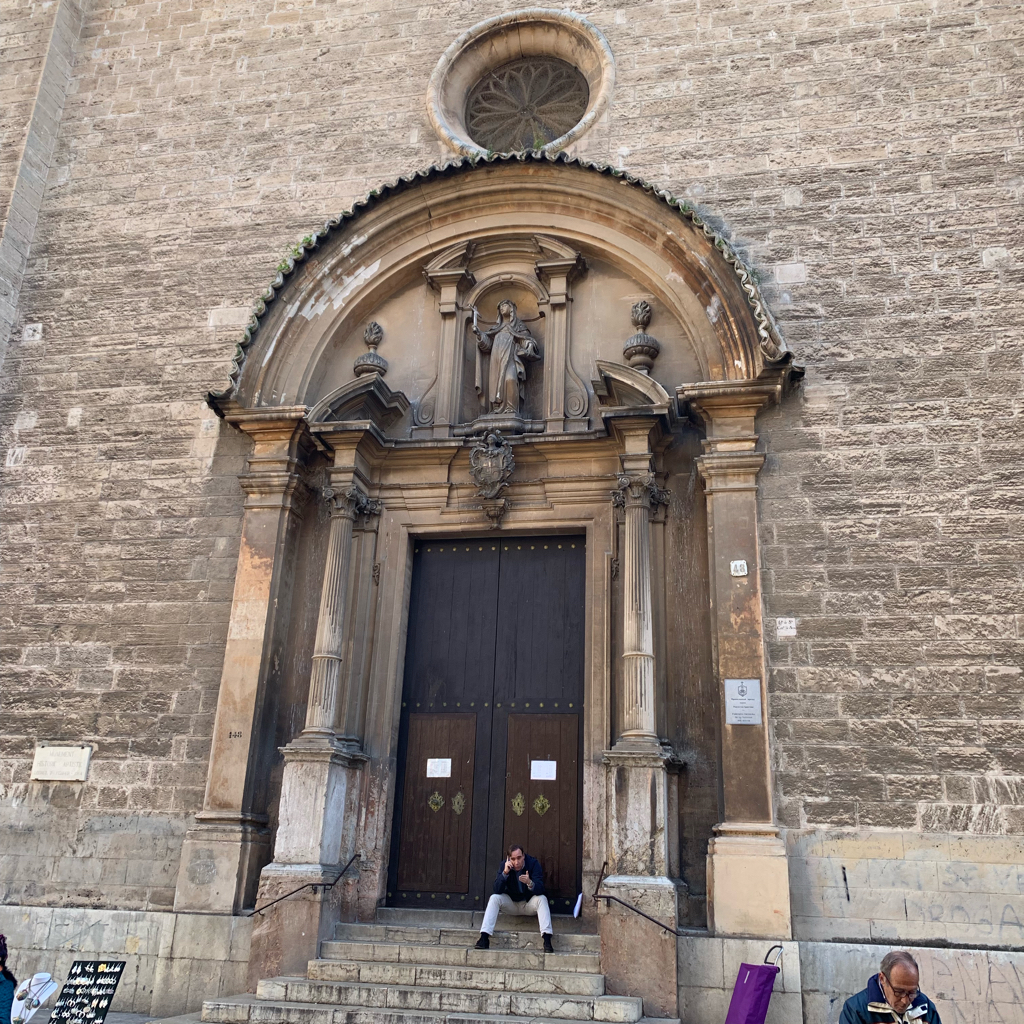arco-medio-punto: (266, 193, 770, 422)
fronton-partido: (302, 357, 675, 435), (427, 232, 581, 279)
vano-adintelado: (359, 480, 616, 921)
